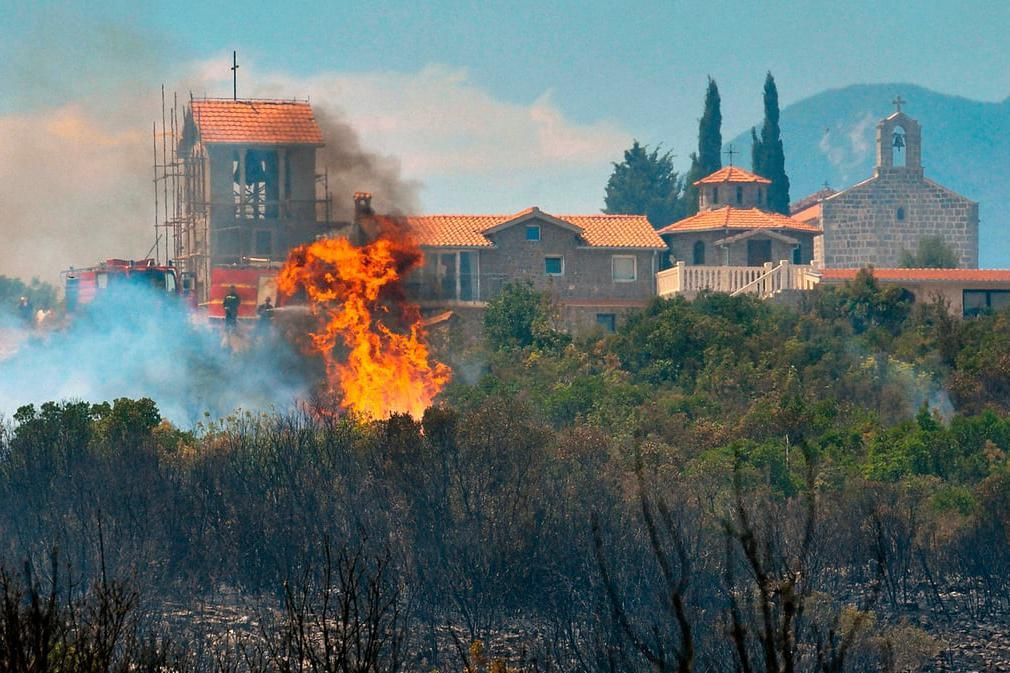Fire: (281, 238, 461, 427), (35, 305, 57, 324)
